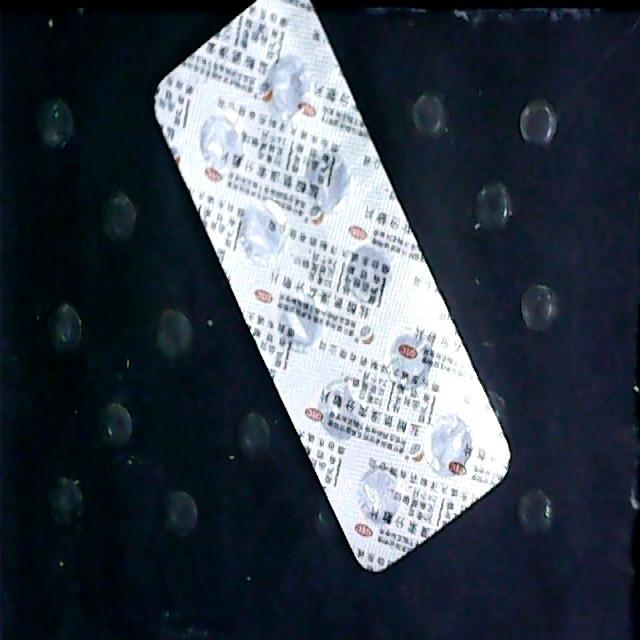-Hazardous waste - medicine inner packaging-: (157, 6, 509, 564)
